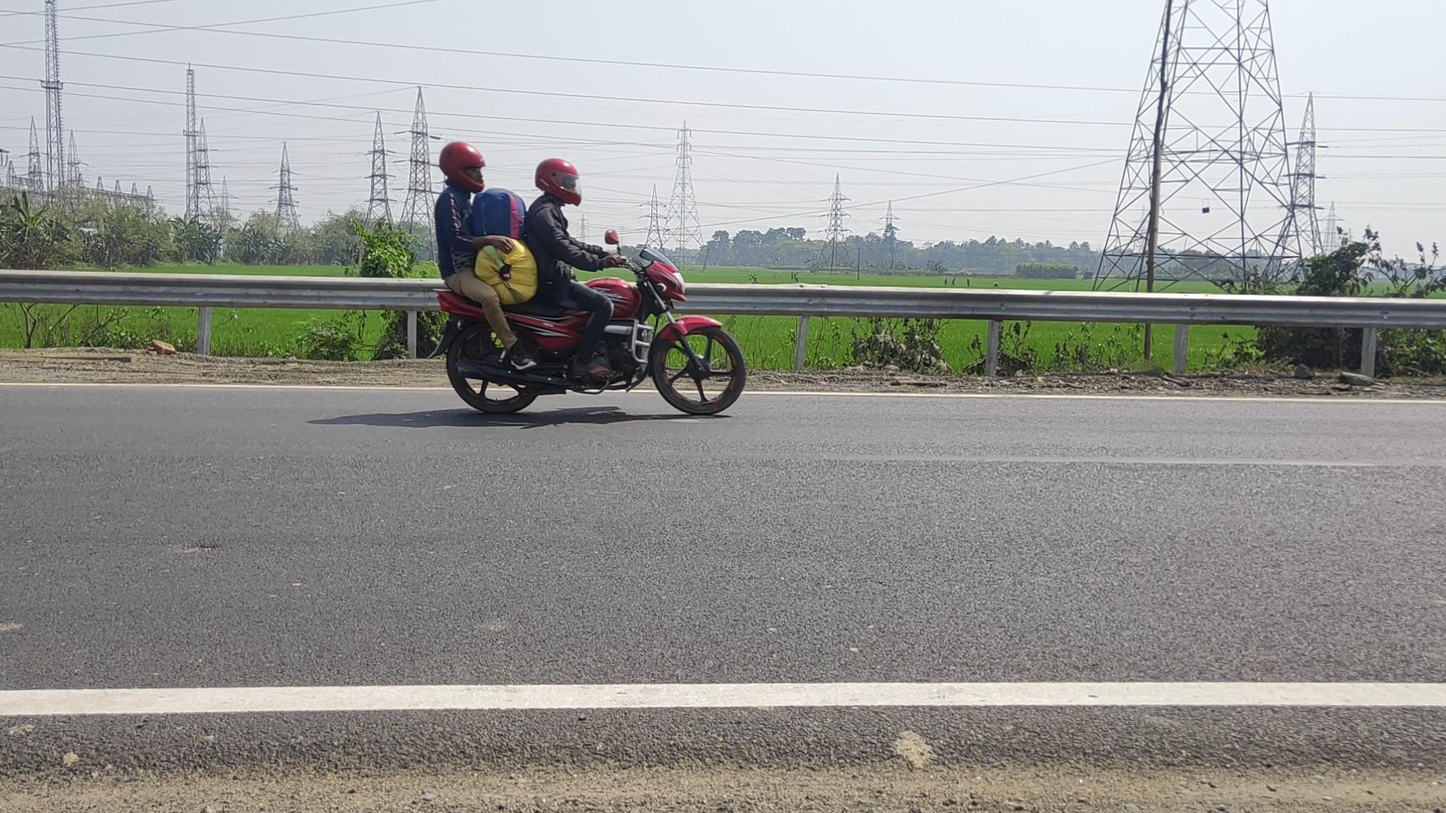bike: (434, 139, 747, 416)
